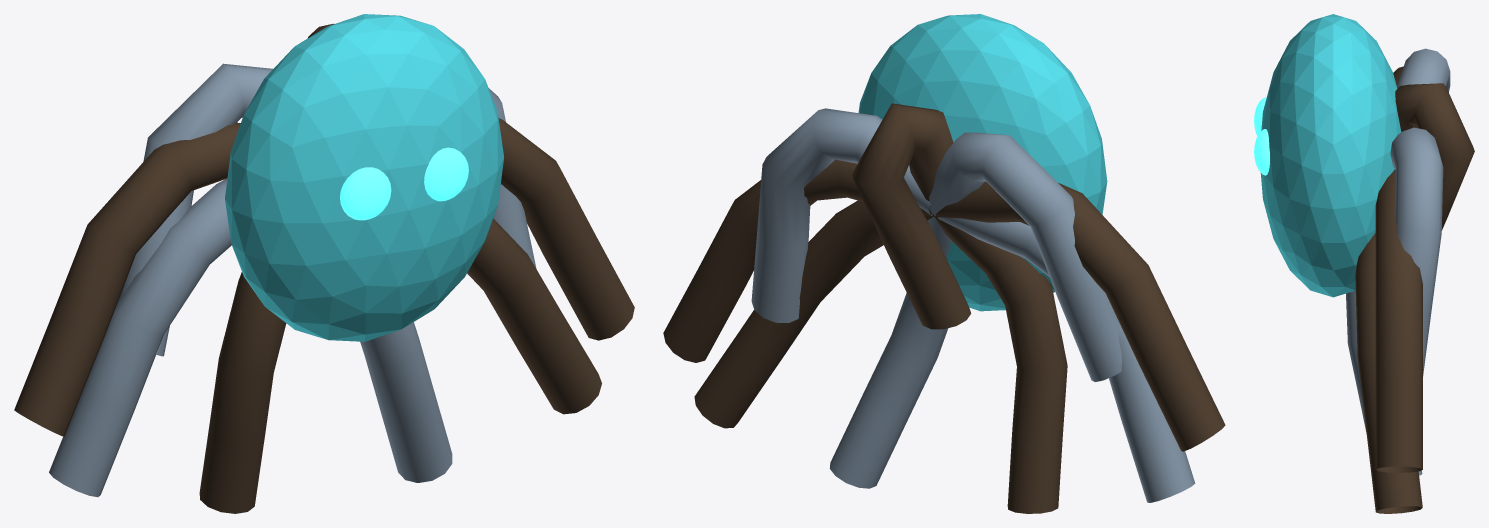
The model's file is plant_v6.glb.
The picture shows the model from 3 angles, left to right: view 1: azimuth 30°, elevation 25°; view 2: azimuth 150°, elevation 25°; view 3: azimuth 270°, elevation 25°; orthographic projection. The views are drawn at different scales.
Visible parts, largest first — view 1: VINE_HEART_ACCENT, VINE_SECONDARY.002, VINE_PRIMARY.002, VINE_SECONDARY.003, VINE_SECONDARY, VINE_SECONDARY.004, VINE_PRIMARY.003, VINE_PRIMARY.001, EYE_EMISSIVE, EYE_EMISSIVE.001, VINE_PRIMARY; view 2: VINE_HEART_ACCENT, VINE_SECONDARY.002, VINE_PRIMARY.001, VINE_SECONDARY.003, VINE_SECONDARY.001, VINE_PRIMARY, VINE_SECONDARY.004, VINE_PRIMARY.003, VINE_SECONDARY, VINE_PRIMARY.002; view 3: VINE_HEART_ACCENT, VINE_SECONDARY, VINE_PRIMARY, VINE_SECONDARY.004, VINE_SECONDARY.001, VINE_PRIMARY.001, VINE_PRIMARY.003, EYE_EMISSIVE.001, EYE_EMISSIVE.
Boxes of the visible parts, bbox=[...] form: VINE_HEART_ACCENT: bbox=[225, 14, 504, 341]; VINE_SECONDARY.002: bbox=[14, 122, 240, 436]; VINE_PRIMARY.002: bbox=[49, 179, 231, 497]; VINE_SECONDARY.003: bbox=[199, 272, 286, 513]; VINE_SECONDARY: bbox=[498, 118, 634, 340]; VINE_SECONDARY.004: bbox=[467, 218, 601, 414]; VINE_PRIMARY.003: bbox=[360, 322, 452, 482]; VINE_PRIMARY.001: bbox=[117, 63, 272, 356]; EYE_EMISSIVE: bbox=[340, 167, 391, 220]; EYE_EMISSIVE.001: bbox=[424, 147, 468, 201]; VINE_PRIMARY: bbox=[488, 88, 536, 268]; VINE_HEART_ACCENT: bbox=[858, 14, 1107, 311]; VINE_SECONDARY.002: bbox=[936, 181, 1225, 451]; VINE_PRIMARY.001: bbox=[929, 132, 1122, 381]; VINE_SECONDARY.003: bbox=[931, 213, 1067, 513]; VINE_SECONDARY.001: bbox=[851, 103, 971, 329]; VINE_PRIMARY: bbox=[751, 108, 932, 322]; VINE_SECONDARY.004: bbox=[694, 200, 933, 428]; VINE_PRIMARY.003: bbox=[829, 213, 951, 488]; VINE_SECONDARY: bbox=[663, 159, 930, 362]; VINE_PRIMARY.002: bbox=[938, 217, 1195, 502]; VINE_HEART_ACCENT: bbox=[1260, 14, 1401, 297]; VINE_SECONDARY: bbox=[1375, 169, 1422, 472]; VINE_PRIMARY: bbox=[1390, 127, 1443, 375]; VINE_SECONDARY.004: bbox=[1355, 233, 1422, 513]; VINE_SECONDARY.001: bbox=[1395, 83, 1474, 230]; VINE_PRIMARY.001: bbox=[1397, 48, 1450, 92]; VINE_PRIMARY.003: bbox=[1346, 290, 1422, 475]; EYE_EMISSIVE.001: bbox=[1254, 129, 1269, 175]; EYE_EMISSIVE: bbox=[1254, 97, 1266, 136].
Bounding box in the file's own units: 2.22 × 1.76 × 0.8363.
